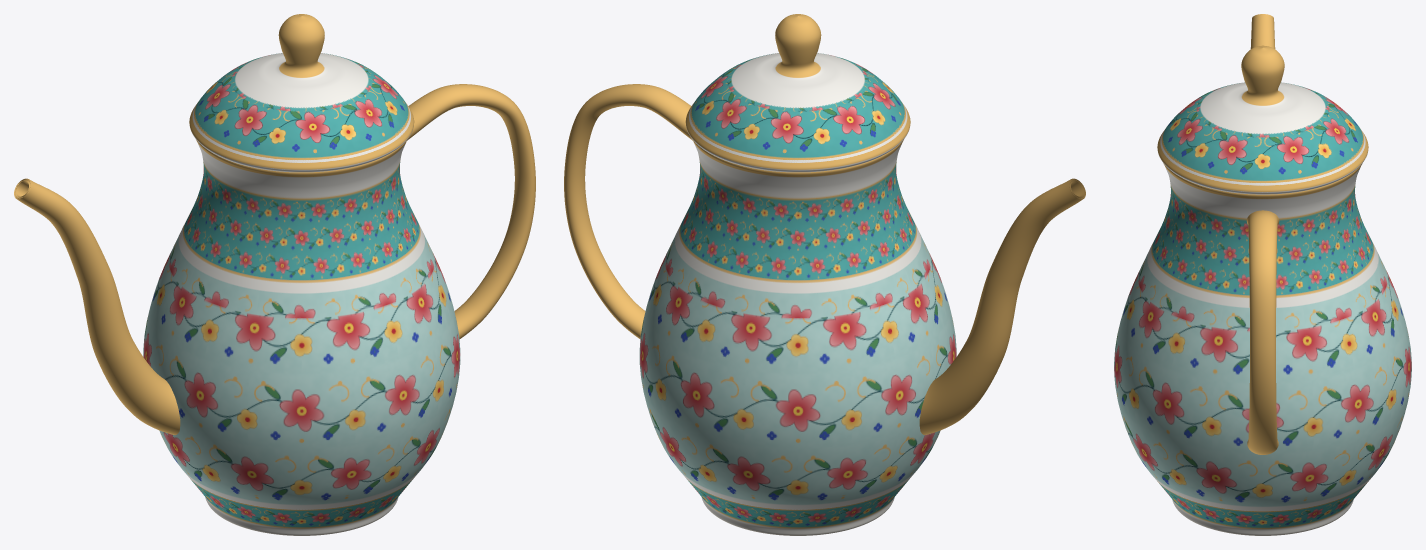
The model's file is imperial-teapot.glb.
3 renders of one model, left to right at view 1: azimuth 30°, elevation 25°; view 2: azimuth 150°, elevation 25°; view 3: azimuth 270°, elevation 25°, orthographic. The views are drawn at different scales.
Parts seen in each view (by area): view 1: teapot-body, teapot-lid, teapot-spout, teapot-handle; view 2: teapot-body, teapot-lid, teapot-spout, teapot-handle; view 3: teapot-body, teapot-lid, teapot-handle, teapot-spout.
Part boxes in pixels (x1,y1,x2,y2): teapot-body: (143,139,460,535); teapot-lid: (189,14,414,172); teapot-spout: (14,178,180,434); teapot-handle: (407,84,535,338); teapot-body: (639,139,956,535); teapot-lid: (685,14,910,172); teapot-spout: (919,178,1085,434); teapot-handle: (564,84,692,338); teapot-body: (1114,163,1411,535); teapot-lid: (1157,45,1368,194); teapot-handle: (1246,210,1279,454); teapot-spout: (1250,14,1275,48).
Size of the model in its own units: 0.2688 by 0.2387 by 0.1428.
3 materials, 2 textured.
